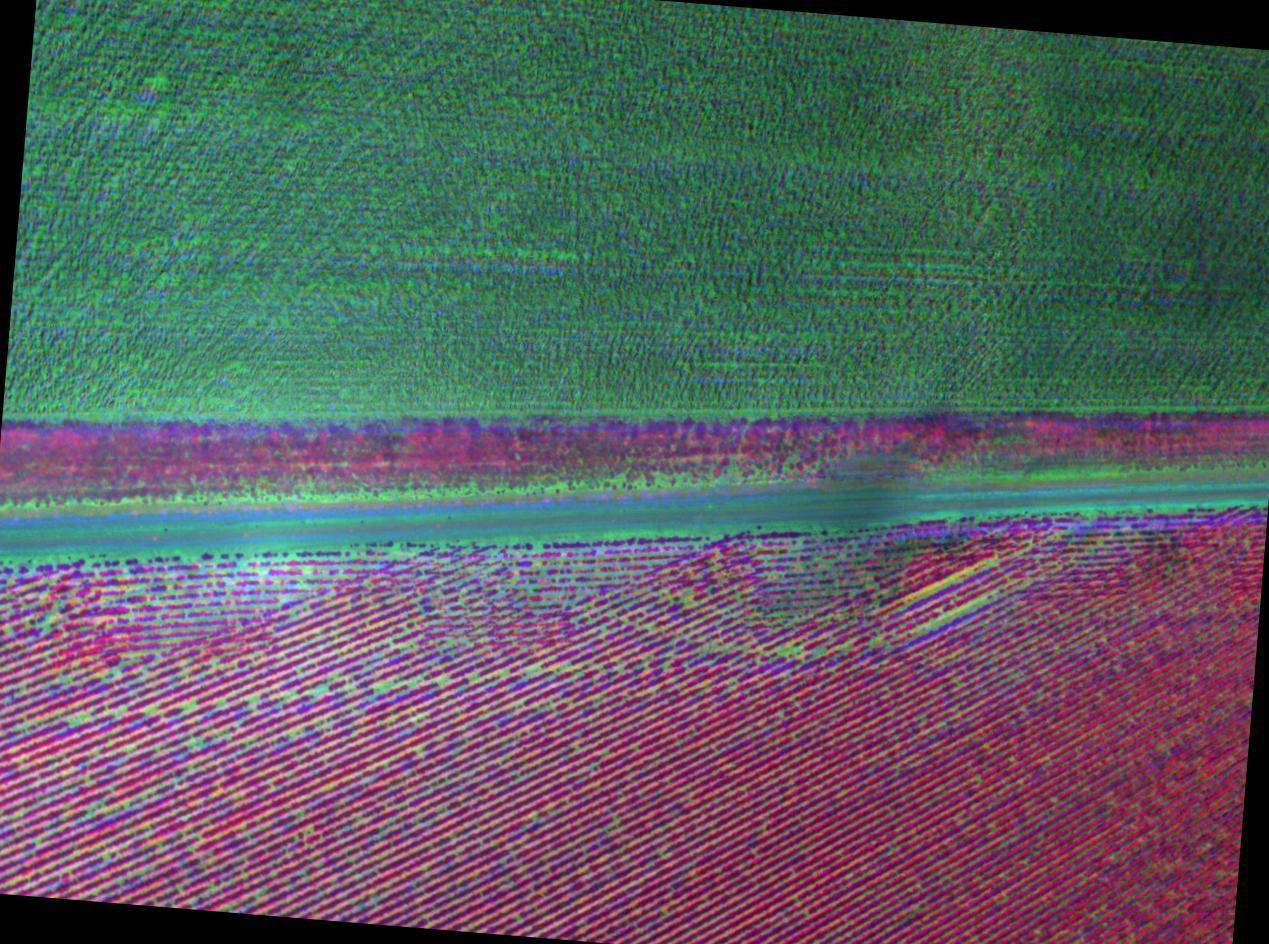dc: (71, 718, 76, 723), (316, 689, 321, 693), (503, 672, 507, 676), (104, 855, 108, 859), (980, 602, 983, 606), (712, 647, 715, 651), (127, 747, 130, 750)
